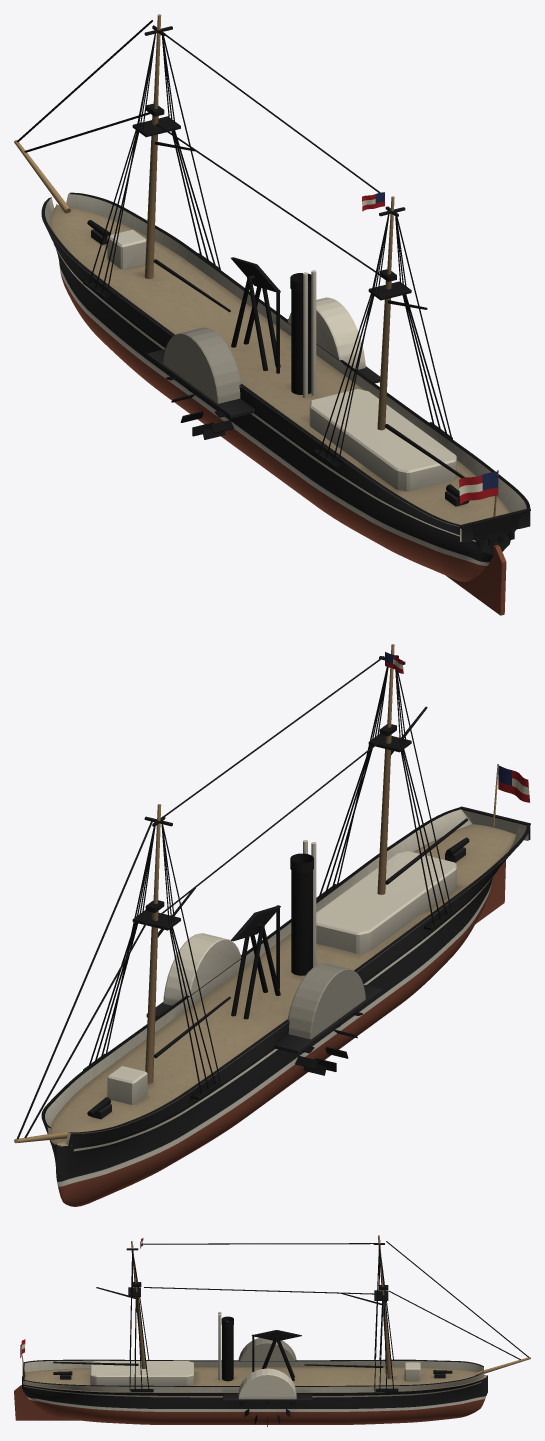
File: css-jamestown.glb
3 renders of one model, top to bottom at view 1: azimuth 30°, elevation 25°; view 2: azimuth 150°, elevation 25°; view 3: azimuth 270°, elevation 25°, orthographic. The views are drawn at different scales.
Parts seen in each view (by area): view 1: css-jamestown; view 2: css-jamestown; view 3: css-jamestown.
Part boxes in pixels (<box>): css-jamestown: <box>14,14,530,615</box>; css-jamestown: <box>14,644,530,1206</box>; css-jamestown: <box>14,1235,530,1426</box>.
Size of the model in its own units: 14.58 by 32.01 by 81.18.
